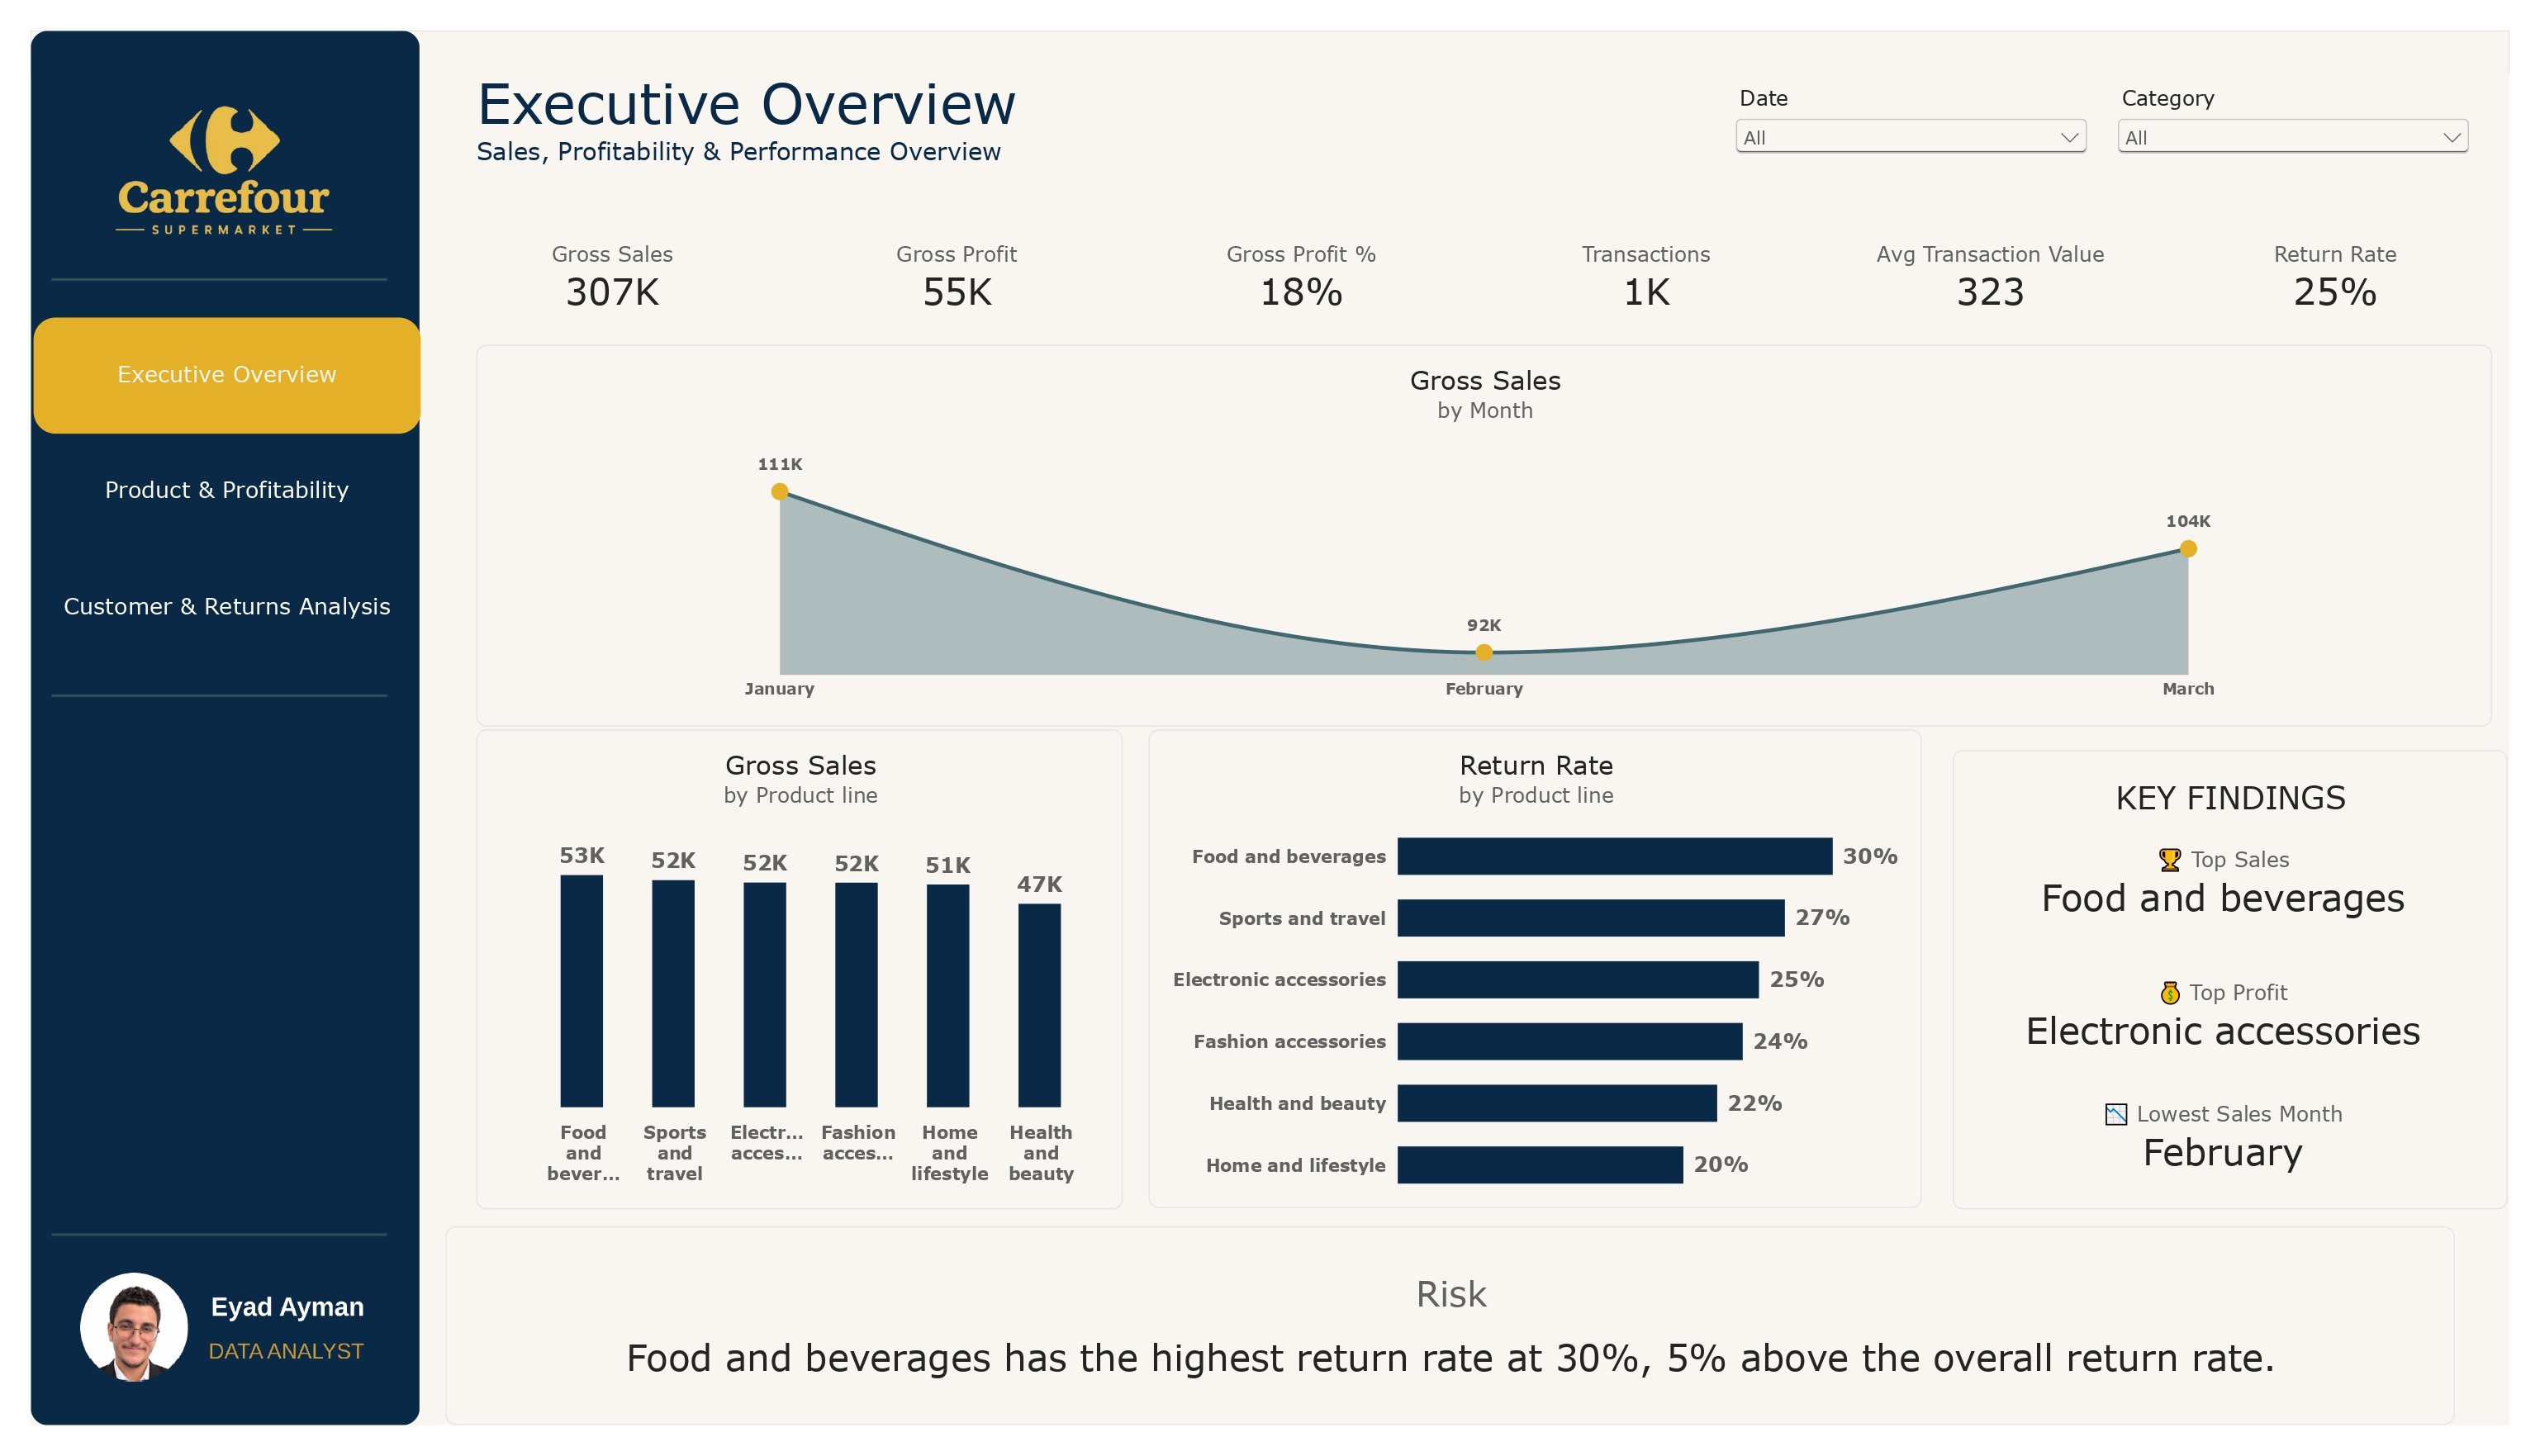

Layout of this report page (visuals, bound fields, positions):
{"tool":"powerbi","page":{"name":"Executive Overview","canvas":[1920,1080],"ordinal":0},"visuals":[{"type":"cardVisual","fields":{"Data":["SuperMarket_Sales.Gross Sales","SuperMarket_Sales.Gross Profit","SuperMarket_Sales.Gross Profit %","SuperMarket_Sales.Total Transactions","SuperMarket_Sales.Average Transaction Value","Data2.Return Rate"]},"box":[321.4,119.8,1597.9,143.4],"z":0},{"type":"areaChart","fields":{"Category":["SuperMarket_Sales.Date.Variation.Date Hierarchy.Month"],"Y":["SuperMarket_Sales.Gross Sales"]},"box":[345,243.3,1561.5,296],"z":1000},{"type":"clusteredColumnChart","fields":{"Category":["SuperMarket_Sales.Product line"],"Y":["SuperMarket_Sales.Gross Sales"]},"box":[345,541.1,501.1,372.2],"z":2000},{"type":"clusteredBarChart","fields":{"Category":["SuperMarket_Sales.Product line"],"Y":["Data2.Return Rate"]},"box":[866.1,541.1,599.2,370.4],"z":3000},{"type":"shape","box":[1488.9,557.4,430.3,355.9],"z":4000},{"type":"cardVisual","fields":{"Data":["SuperMarket_Sales.🏆 Top Sales Product Line"]},"box":[1517.5,613.4,361.3,96.2],"z":5000},{"type":"cardVisual","fields":{"Data":["SuperMarket_Sales.💰 Top Profit Product Line"]},"box":[1517.5,709.6,361.3,108.9],"z":6000},{"type":"cardVisual","fields":{"Data":["SuperMarket_Sales.📉 Lowest Sales Month"]},"box":[1517.9,819,361.3,79.9],"z":7000},{"type":"textbox","box":[1515.7,578.9,377.7,34.5],"z":8000},{"type":"cardVisual","fields":{"Data":["SuperMarket_Sales.Return Risk Insight"]},"box":[321.4,926,1557.9,154.3],"z":9000},{"type":"shape","box":[0,0,301.4,1080.4],"z":10000},{"type":"textbox","box":[345,29.1,428.5,92.6],"z":11000},{"type":"slicer","fields":{"Values":["SuperMarket_Sales.Date.Variation.Date Hierarchy.Month"]},"box":[1316.4,41.8,281.4,67.2],"z":12000},{"type":"slicer","fields":{"Values":["SuperMarket_Sales.Product line"]},"box":[1612.4,41.8,281.4,67.2],"z":13000},{"type":"pageNavigator","box":[1.8,221.5,300,272],"z":14000},{"type":"image","box":[0,27.2,301.4,163.4],"z":15000},{"type":"shape","box":[16.3,121.7,259.7,141.6],"z":18000},{"type":"shape","box":[16.3,493.9,259.7,41.8],"z":19000},{"type":"shape","box":[16.3,911.5,259.7,41.8],"z":20000},{"type":"image","box":[38.1,953.3,219.7,101.7],"z":20001}]}

Visuals, with their boxes on the page's 1920x1080 design canvas (x1, y1, x2, y2). These are canvas units, not pixel positions in the 2540x1456 screenshot, which may show the page scaled, cropped or inside an application window:
cardVisual - SuperMarket_Sales.Gross Sales x SuperMarket_Sales.Gross Profit: (left=321, top=120, right=1919, bottom=263)
areaChart - SuperMarket_Sales.Date.Variation.Date Hierarchy.Month x SuperMarket_Sales.Gross Sales: (left=345, top=243, right=1906, bottom=539)
clusteredColumnChart - SuperMarket_Sales.Product line x SuperMarket_Sales.Gross Sales: (left=345, top=541, right=846, bottom=913)
clusteredBarChart - SuperMarket_Sales.Product line x Data2.Return Rate: (left=866, top=541, right=1465, bottom=912)
shape: (left=1489, top=557, right=1919, bottom=913)
cardVisual - SuperMarket_Sales.🏆 Top Sales Product Line: (left=1518, top=613, right=1879, bottom=710)
cardVisual - SuperMarket_Sales.💰 Top Profit Product Line: (left=1518, top=710, right=1879, bottom=818)
cardVisual - SuperMarket_Sales.📉 Lowest Sales Month: (left=1518, top=819, right=1879, bottom=899)
textbox: (left=1516, top=579, right=1893, bottom=613)
cardVisual - SuperMarket_Sales.Return Risk Insight: (left=321, top=926, right=1879, bottom=1080)
shape: (left=0, top=0, right=301, bottom=1080)
textbox: (left=345, top=29, right=774, bottom=122)
slicer - SuperMarket_Sales.Date.Variation.Date Hierarchy.Month: (left=1316, top=42, right=1598, bottom=109)
slicer - SuperMarket_Sales.Product line: (left=1612, top=42, right=1894, bottom=109)
pageNavigator: (left=2, top=222, right=302, bottom=494)
image: (left=0, top=27, right=301, bottom=191)
shape: (left=16, top=122, right=276, bottom=263)
shape: (left=16, top=494, right=276, bottom=536)
shape: (left=16, top=912, right=276, bottom=953)
image: (left=38, top=953, right=258, bottom=1055)
